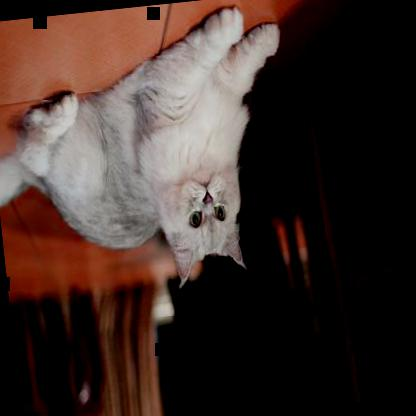cat: (0, 0, 305, 303)
